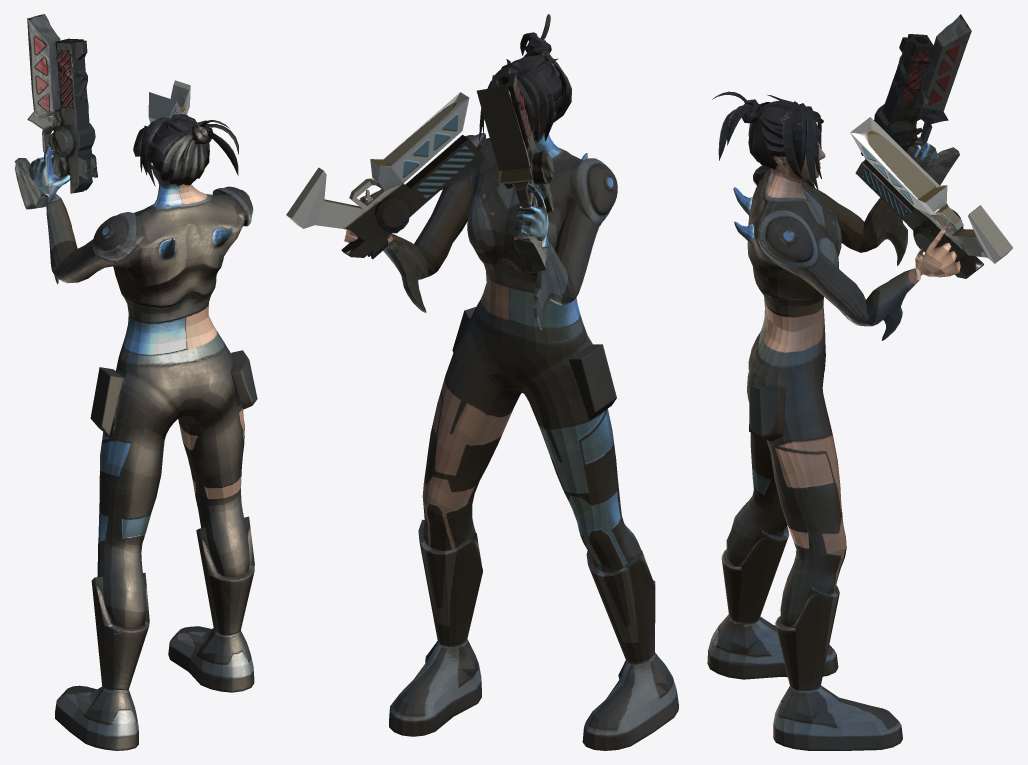
3 views of the same model, side by side, from view 1: azimuth 30°, elevation 25°; view 2: azimuth 150°, elevation 25°; view 3: azimuth 270°, elevation 25° (orthographic). The views are drawn at different scales.
Visible parts, largest first — view 1: Dex_LOW_Plane.001; view 2: Dex_LOW_Plane.001; view 3: Dex_LOW_Plane.001.
Boxes of the visible parts, bbox=[...] form: Dex_LOW_Plane.001: bbox=[14, 14, 257, 750]; Dex_LOW_Plane.001: bbox=[286, 14, 678, 750]; Dex_LOW_Plane.001: bbox=[707, 14, 1013, 750].
Bounding box in the file's own units: 1.89 × 5.08 × 2.12.
